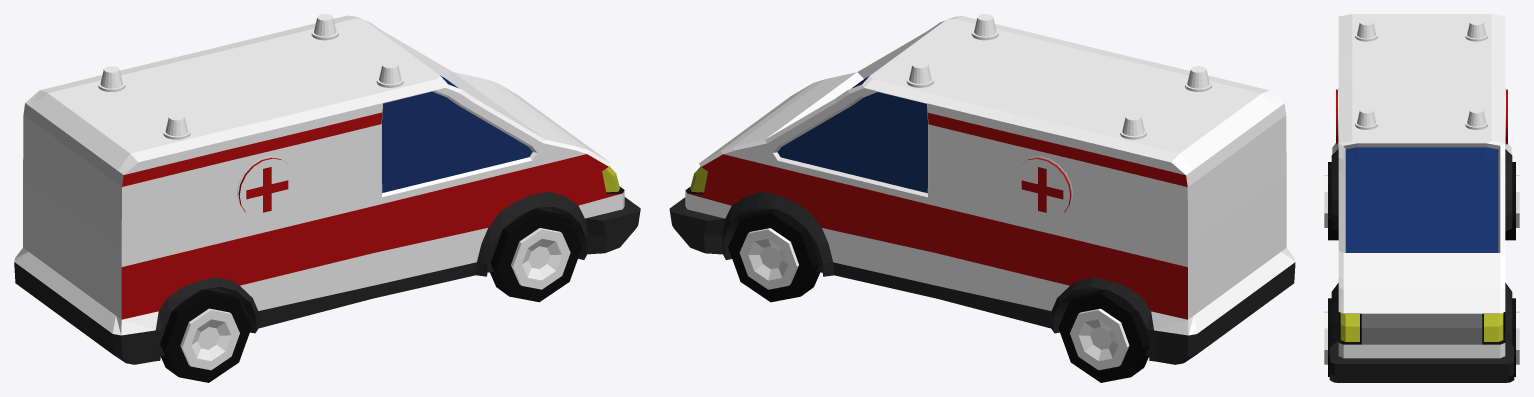
The model's file is karetka.FBX.
3 renders of one model, left to right at view 1: azimuth 30°, elevation 25°; view 2: azimuth 150°, elevation 25°; view 3: azimuth 270°, elevation 25°, orthographic. The views are drawn at different scales.
Parts seen in each view (by area): view 1: Tube001, koła, Cylinder001; view 2: Tube001, koła, Cylinder001; view 3: Tube001, koła, Cylinder001.
Part boxes in pixels (x1=…): Tube001: x1=14, y1=15, x2=640, y2=364; koła: x1=160, y1=209, x2=581, y2=382; Cylinder001: x1=98, y1=14, x2=403, y2=139; Tube001: x1=669, y1=16, x2=1295, y2=364; koła: x1=728, y1=209, x2=1149, y2=382; Cylinder001: x1=906, y1=14, x2=1211, y2=139; Tube001: x1=1329, y1=14, x2=1514, y2=382; koła: x1=1324, y1=162, x2=1519, y2=376; Cylinder001: x1=1355, y1=19, x2=1487, y2=129.
Size of the model in its own units: 30.96 by 14.15 by 11.78.
